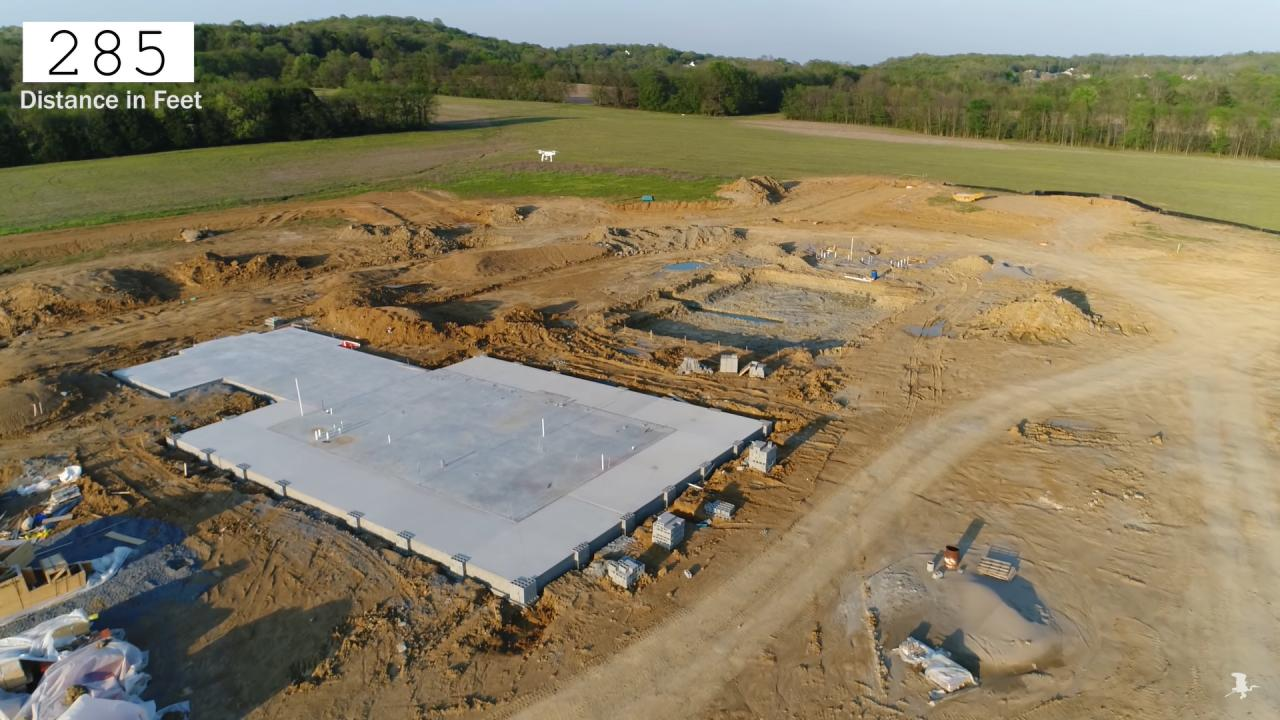Drone: (528, 141, 564, 171)
